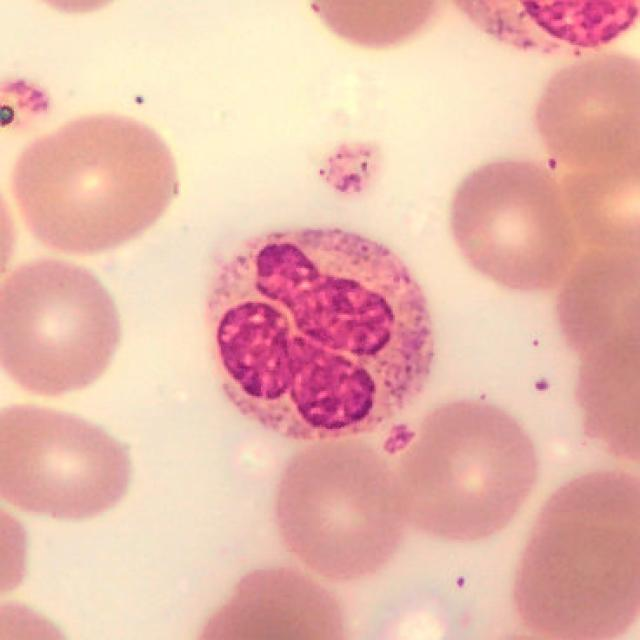Neutrofilo segmentado: (210, 228, 435, 443)
